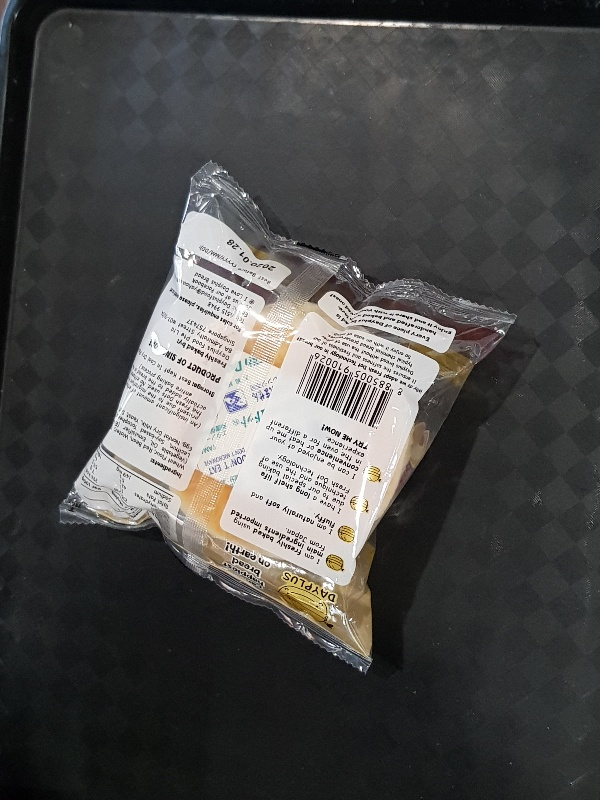Dayplus Red Bean: (57, 158, 516, 674)
